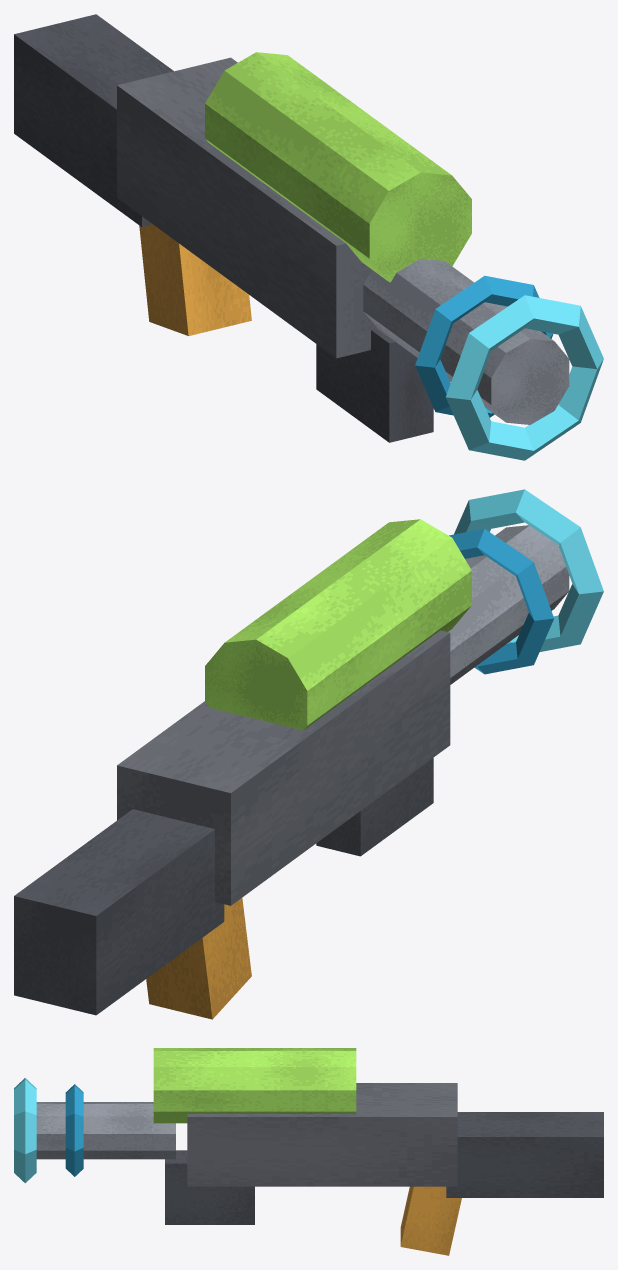
The model's file is weapon_plasma.glb.
3 views of the same model, one above another, from view 1: azimuth 30°, elevation 25°; view 2: azimuth 150°, elevation 25°; view 3: azimuth 270°, elevation 25° (orthographic). The views are drawn at different scales.
Visible parts, largest first — view 1: weapon_plasma; view 2: weapon_plasma; view 3: weapon_plasma.
Boxes of the visible parts, bbox=[...] form: weapon_plasma: bbox=[14, 14, 603, 460]; weapon_plasma: bbox=[14, 489, 603, 1019]; weapon_plasma: bbox=[14, 1048, 603, 1255].
Bounding box in the file's own units: 0.5 × 0.9573 × 2.62.
1 material, 1 textured.
